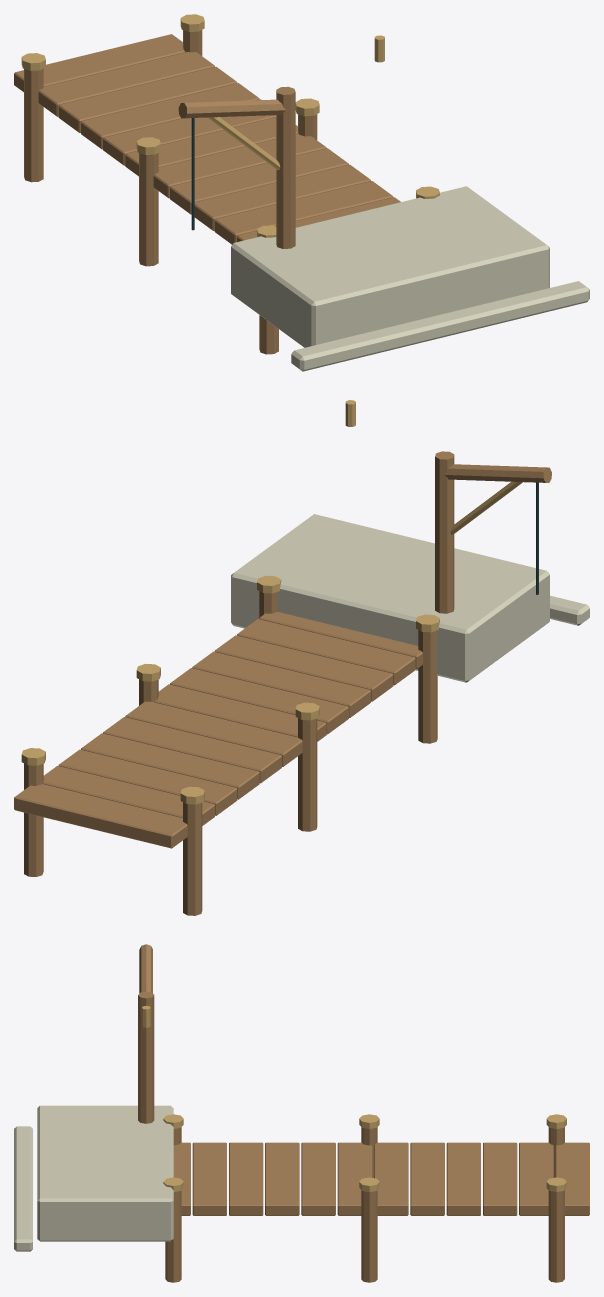
Rendered from level_07.glb.
The picture shows the model from 3 angles, top to bottom: view 1: azimuth 30°, elevation 25°; view 2: azimuth 150°, elevation 25°; view 3: azimuth 270°, elevation 25°; orthographic projection. The views are drawn at different scales.
Parts seen in each view (by area): view 1: dock — level 07; view 2: dock — level 07; view 3: dock — level 07.
Boxes of the visible parts, x1=… form: dock — level 07: x1=14, y1=14, x2=589, y2=371; dock — level 07: x1=14, y1=400, x2=589, y2=915; dock — level 07: x1=14, y1=944, x2=589, y2=1282.
Size of the model in its own units: 4.53 by 3.98 by 8.45.
